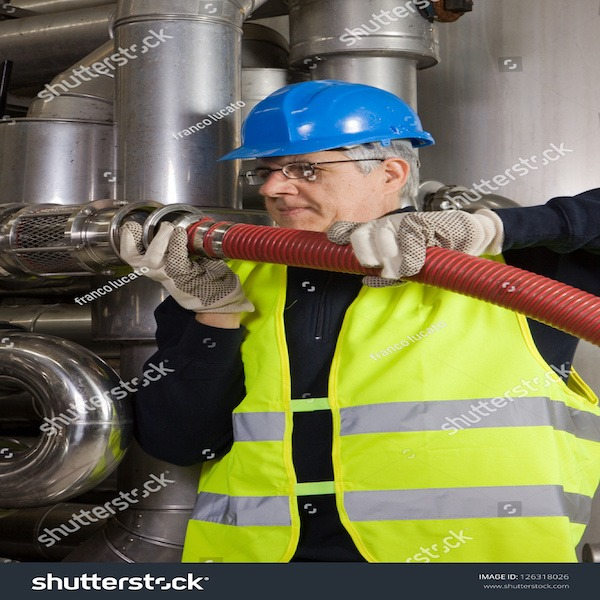helmet: (221, 80, 433, 164)
vest: (198, 239, 590, 560)
